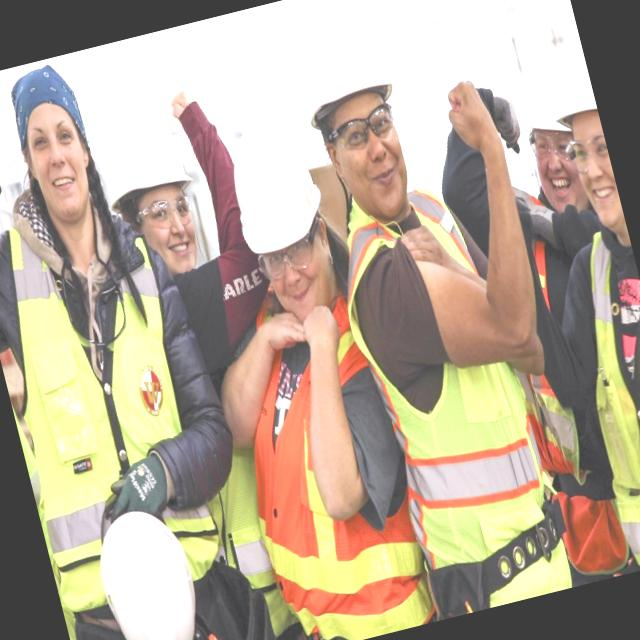goggles: (308, 86, 416, 170), (122, 178, 213, 252), (244, 224, 334, 298), (562, 131, 614, 188)
helmet: (73, 500, 218, 640), (211, 108, 331, 260), (88, 98, 202, 216), (283, 0, 390, 111), (497, 28, 578, 142), (536, 26, 602, 136)
no-goggles: (10, 109, 100, 184)
no-helmet: (0, 52, 93, 156)
vest: (330, 171, 600, 608), (0, 170, 243, 604), (216, 306, 429, 640), (558, 224, 640, 570)
